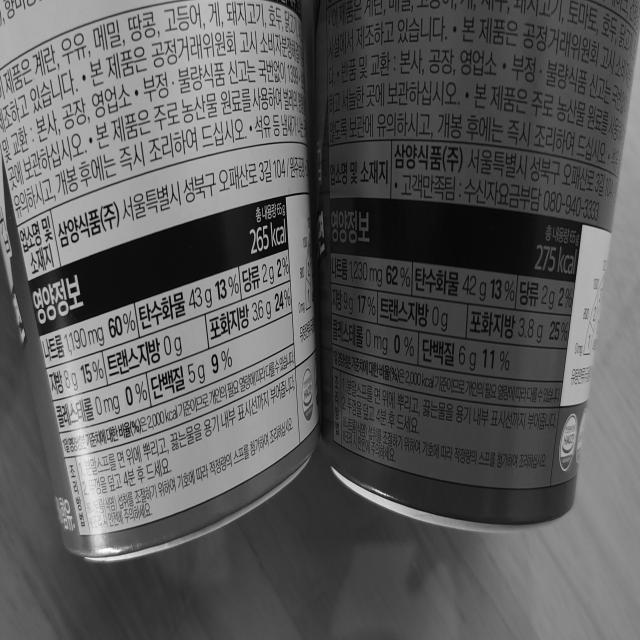Nutrition Label: (333, 199, 580, 405)
